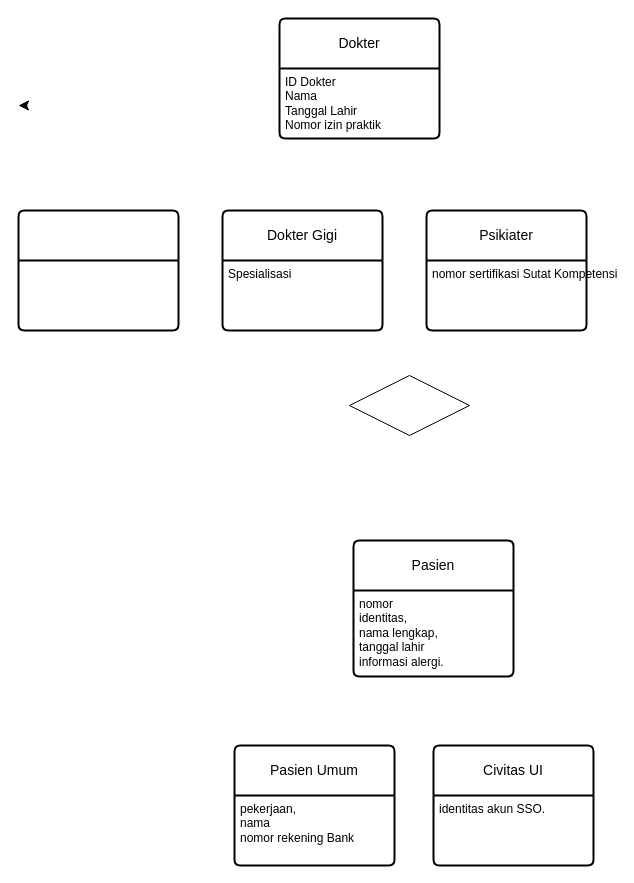
Image size: 634x883. Some labels were removed from this diagram. Here are the shapes that lost their labels. From the top down, the centre of each, then its label:
At (x=98, y=270): "Dokter Umum".
At (x=409, y=405): "Menangani".
